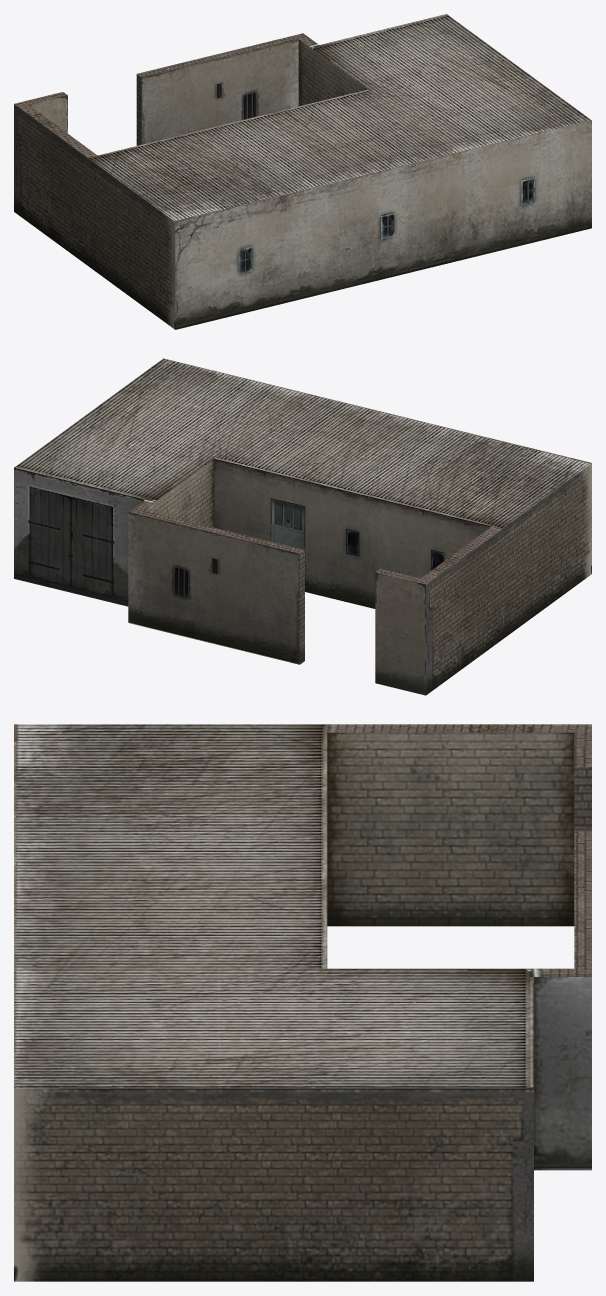
The model's file is buildings_19.FBX.
3 views of the same model, one above another, from view 1: azimuth 30°, elevation 25°; view 2: azimuth 150°, elevation 25°; view 3: azimuth 270°, elevation 25° (orthographic). The views are drawn at different scales.
Visible parts, largest first — view 1: objBox001; view 2: objBox001; view 3: objBox001.
Part boxes in pixels (<box>): objBox001: <box>14,14,591,329</box>; objBox001: <box>14,358,591,695</box>; objBox001: <box>14,724,591,1281</box>.
Bounding box in the file's own units: 1349 × 905 × 334.
Materials: 1 (1 with a texture image).
